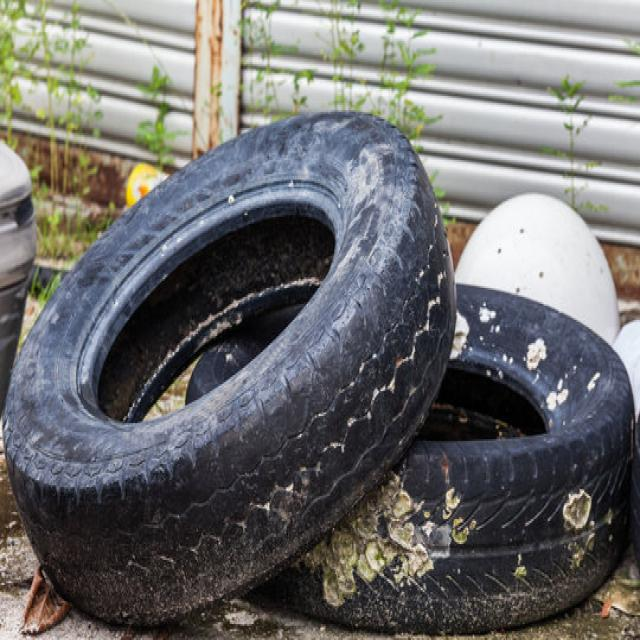tire: (1, 107, 458, 628), (184, 287, 635, 628)
